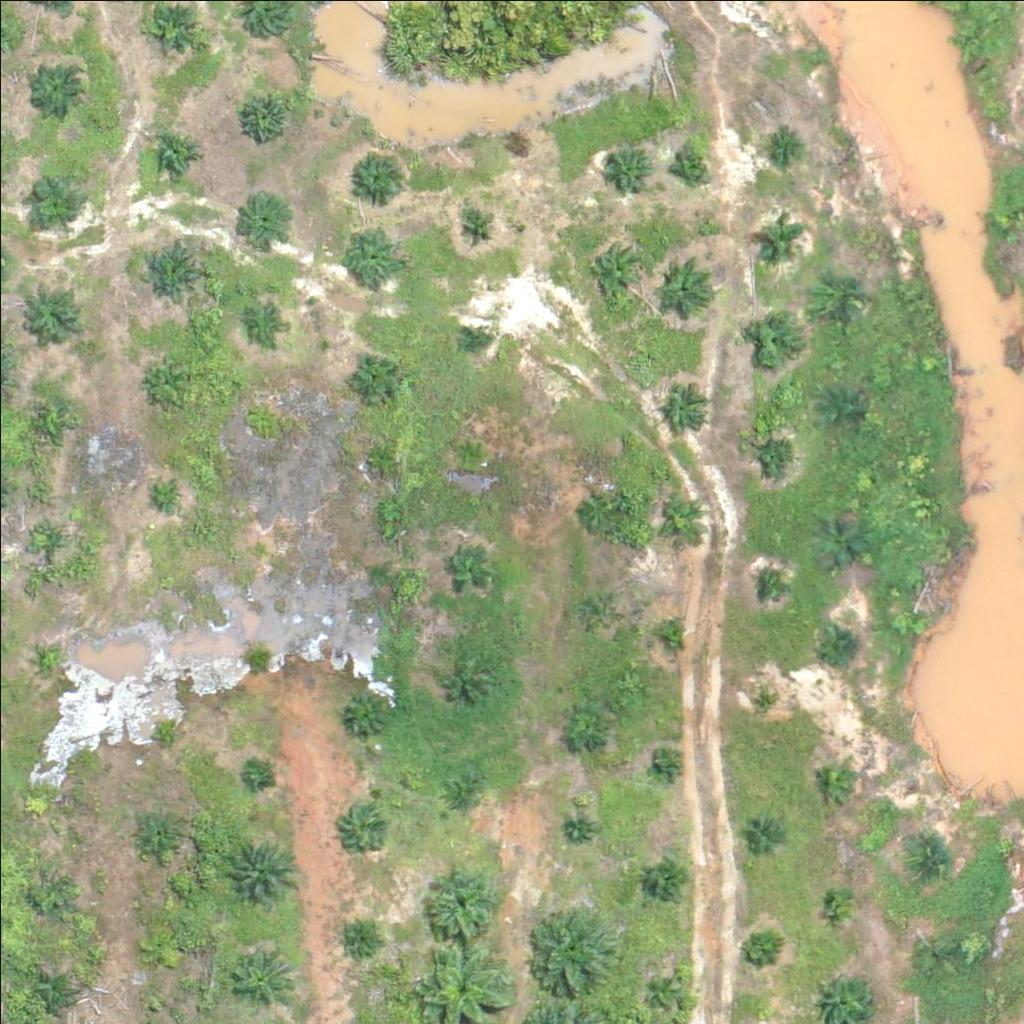Kelapa_Sawit: (417, 857, 505, 945), (526, 908, 614, 996), (224, 833, 299, 909), (24, 285, 87, 348), (139, 239, 202, 302), (585, 238, 648, 301), (229, 944, 291, 1007), (346, 142, 408, 205), (342, 224, 404, 287), (652, 256, 714, 319), (568, 485, 618, 536), (238, 192, 288, 243), (241, 91, 291, 142), (150, 127, 200, 178), (348, 355, 398, 406), (24, 965, 74, 1016), (23, 871, 73, 922), (135, 925, 185, 976), (655, 491, 705, 542), (809, 752, 859, 803), (26, 173, 76, 223), (30, 63, 80, 113), (129, 805, 179, 855), (747, 421, 797, 471), (749, 312, 799, 362), (660, 379, 710, 429), (600, 143, 650, 193), (340, 799, 390, 849), (337, 685, 387, 735), (440, 546, 490, 596), (440, 653, 490, 703), (433, 767, 483, 817), (560, 697, 610, 747), (641, 857, 691, 907), (813, 513, 863, 563), (638, 966, 688, 1016), (811, 262, 861, 312), (247, 299, 285, 337), (952, 20, 990, 58), (762, 219, 800, 257), (761, 128, 799, 166), (674, 145, 712, 183), (821, 624, 859, 662), (143, 356, 180, 394), (456, 208, 493, 246), (985, 206, 1022, 244), (451, 433, 489, 470), (577, 588, 615, 625), (818, 881, 856, 918), (822, 386, 859, 424), (911, 935, 949, 972), (739, 932, 776, 970), (359, 438, 396, 476), (743, 809, 780, 846), (911, 837, 948, 874), (245, 760, 270, 786), (33, 404, 58, 430), (40, 650, 65, 675), (35, 522, 60, 547), (152, 479, 177, 504), (152, 723, 177, 748), (462, 324, 487, 349), (654, 751, 679, 776), (661, 621, 686, 646), (749, 682, 774, 707), (755, 570, 780, 595), (344, 925, 369, 950), (246, 534, 271, 559), (567, 815, 591, 840)
